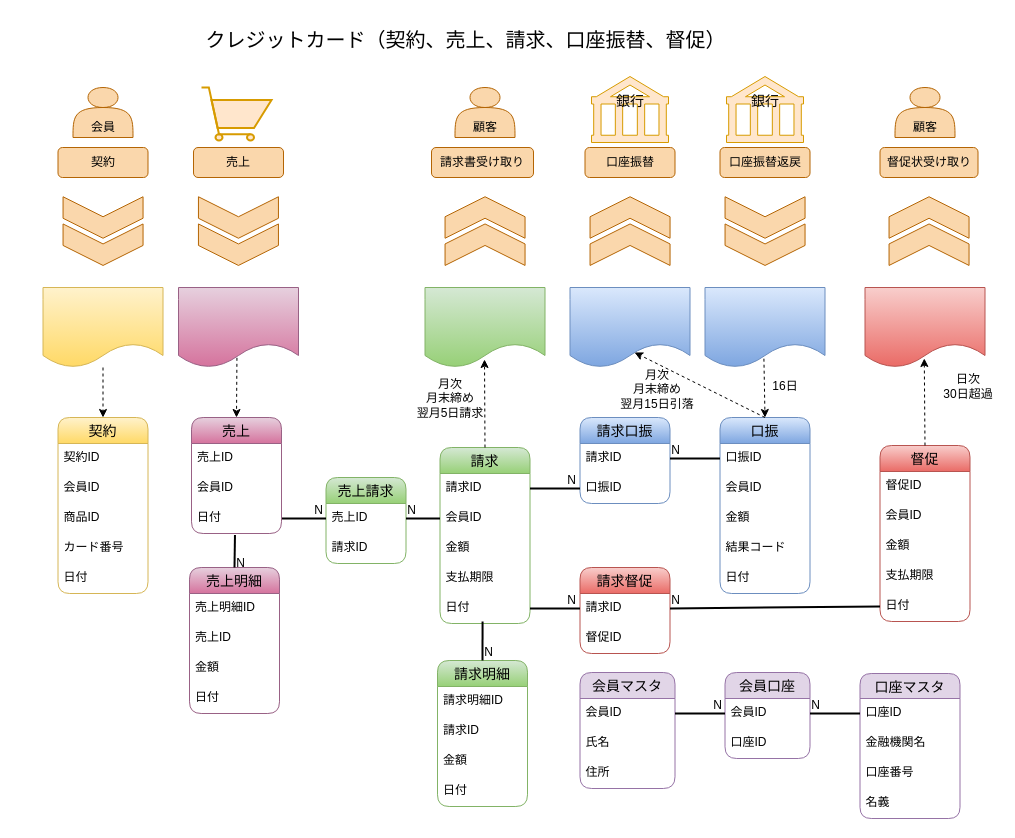
Image size: 1015x838. Some labels were removed from this diagram. Each missing label, with the centre of its shape:
加盟店: point (236, 113)
口振ファイル: point (629, 327)
口振返戻ファイル: point (764, 327)
売上ファイル: point (238, 327)
契約ファイル: point (102, 327)
督促ファイル: point (924, 327)
請求ファイル: point (484, 327)
